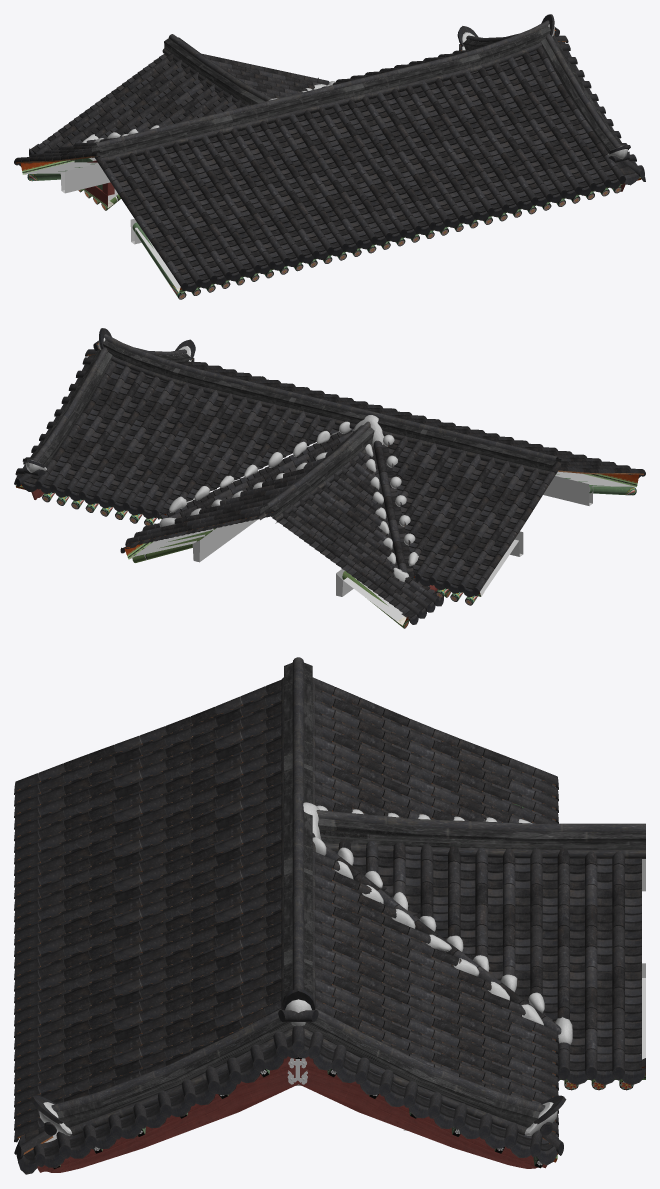
The model's file is SM_Giwa08B.fbx.
The picture shows the model from 3 angles, top to bottom: view 1: azimuth 30°, elevation 25°; view 2: azimuth 150°, elevation 25°; view 3: azimuth 270°, elevation 25°; orthographic projection. The views are drawn at different scales.
Visible parts, largest first — view 1: SM_Giwa08B; view 2: SM_Giwa08B; view 3: SM_Giwa08B.
Boxes of the visible parts, x1,y1,x2,y2 form: SM_Giwa08B: (14,14,645,299); SM_Giwa08B: (14,328,645,628); SM_Giwa08B: (14,657,645,1174).
Size of the model in its own units: 996 by 709 by 258.
